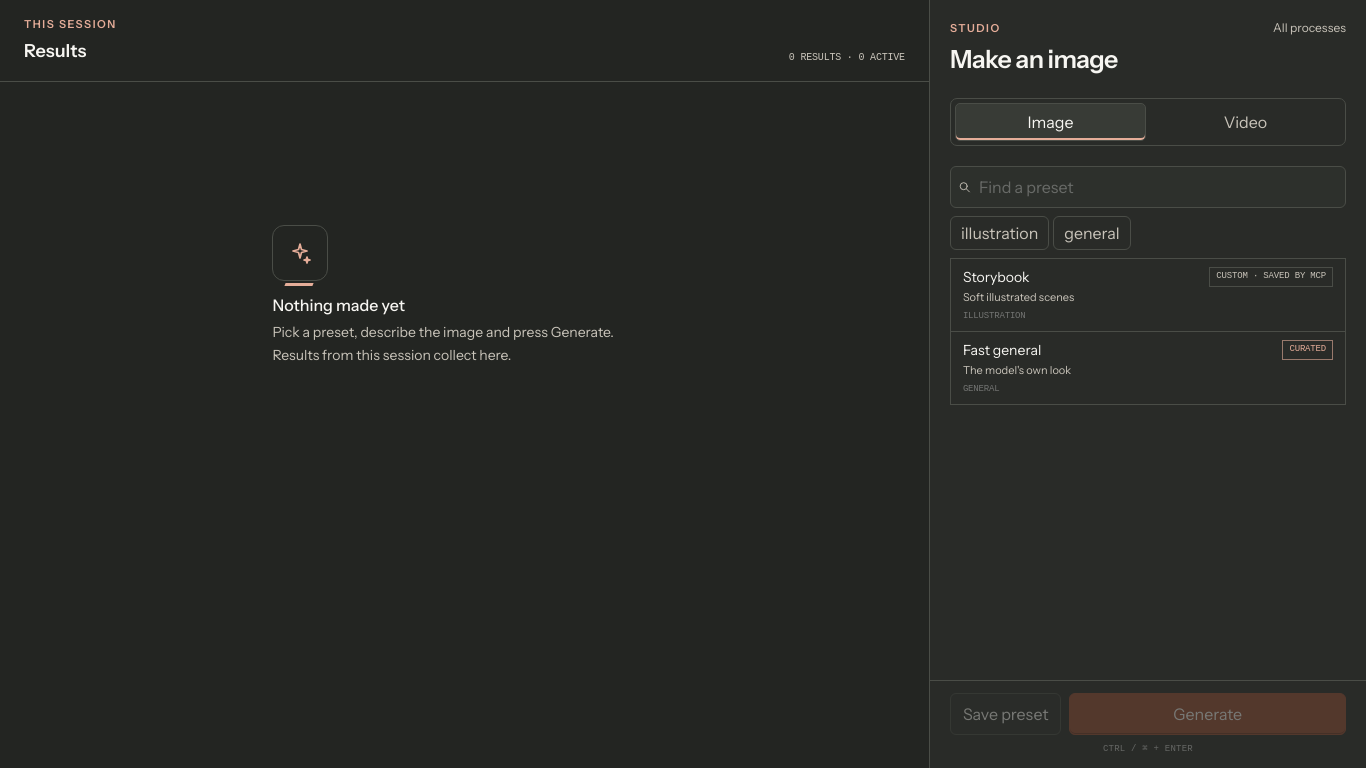
the Studio › switching presets keeps the prompt, says what did not carry, and can be undone
Click the option "Storybook" at (996, 277), box [951, 259, 1345, 332]
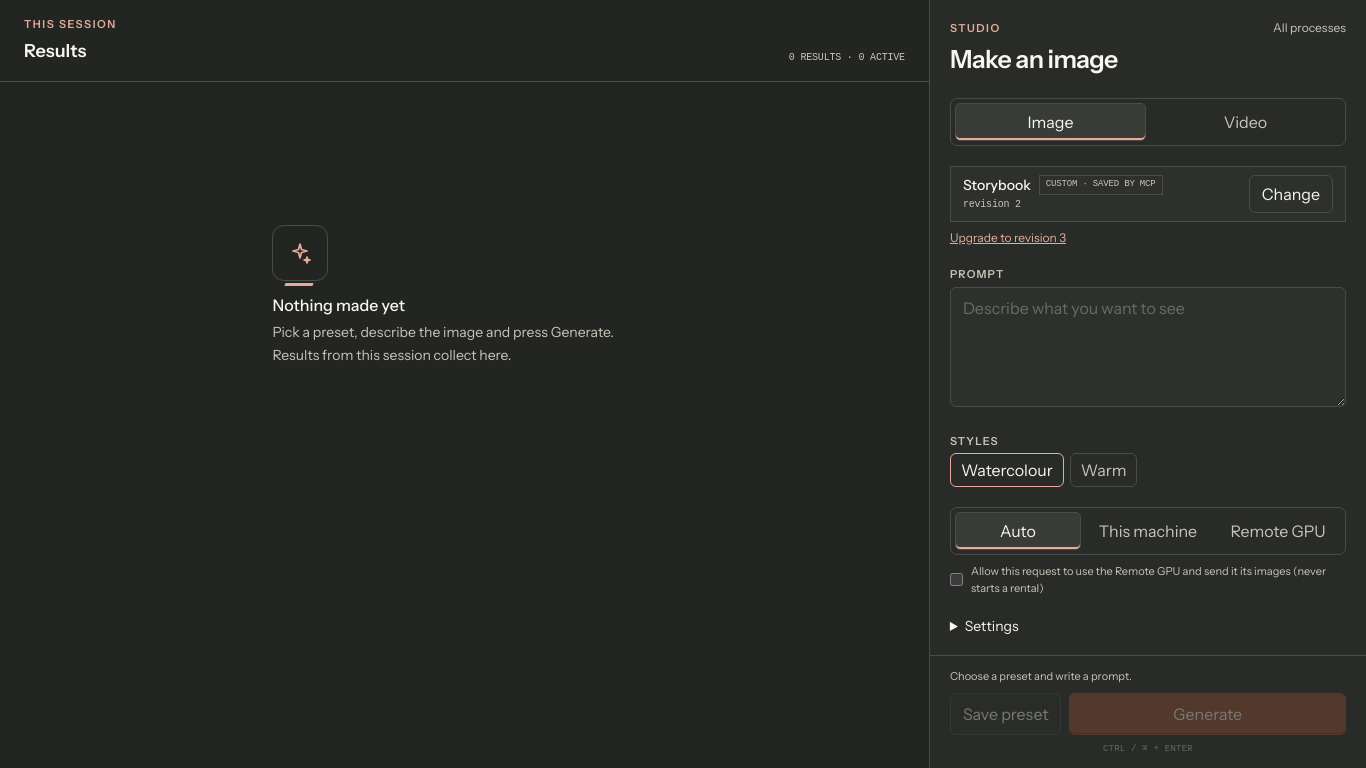
Type "a harbour" into the text box labelled "Prompt" at (1148, 346), box [950, 286, 1346, 406]
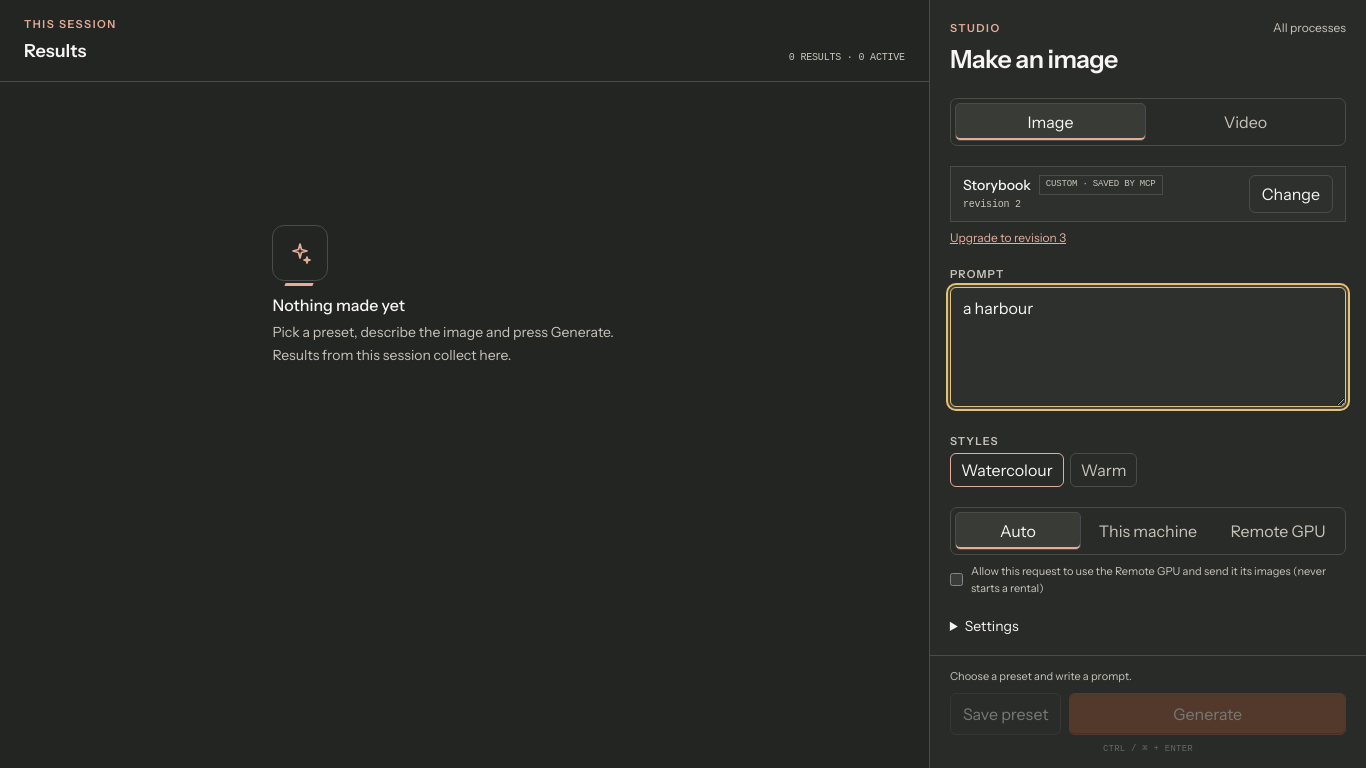
Click the button "Warm" at (1104, 470), box [1070, 453, 1138, 487]
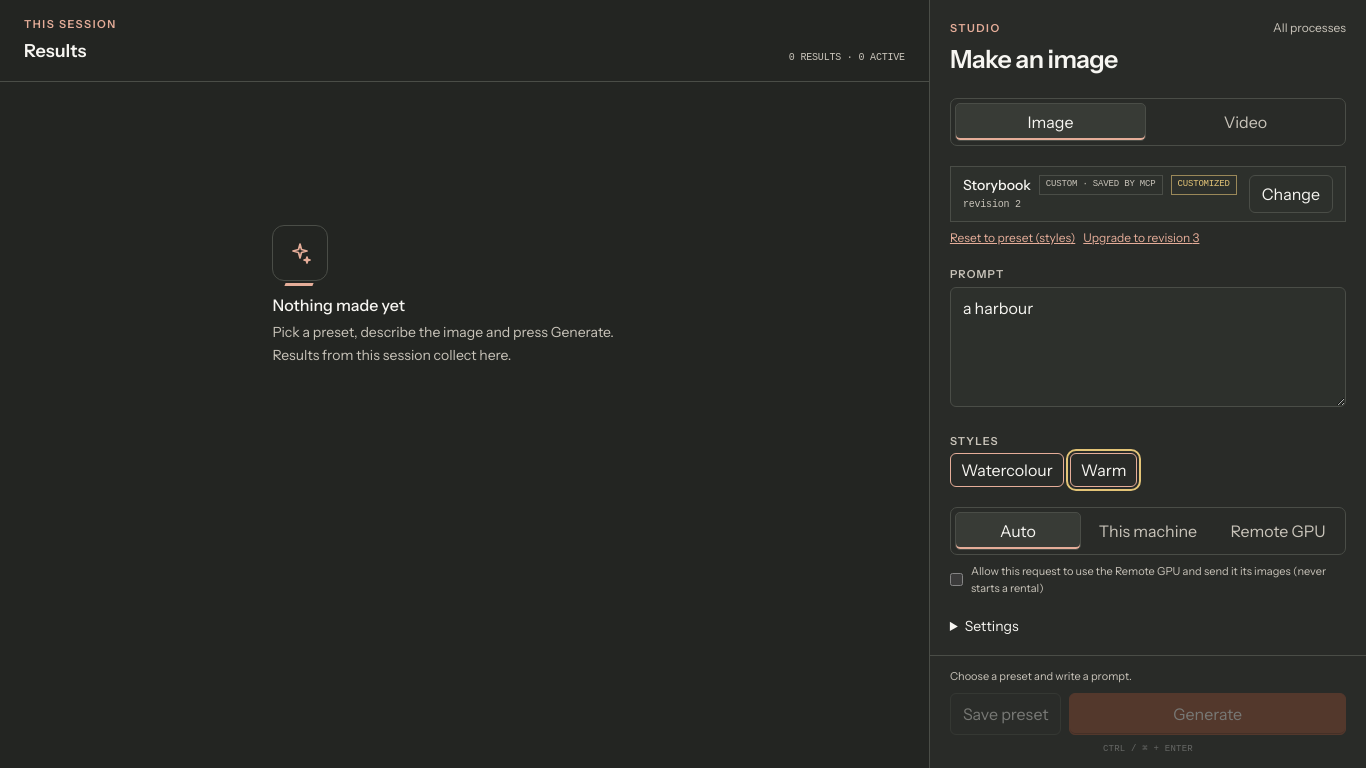
Click the button "Change" at (1291, 194), box [1249, 175, 1333, 213]
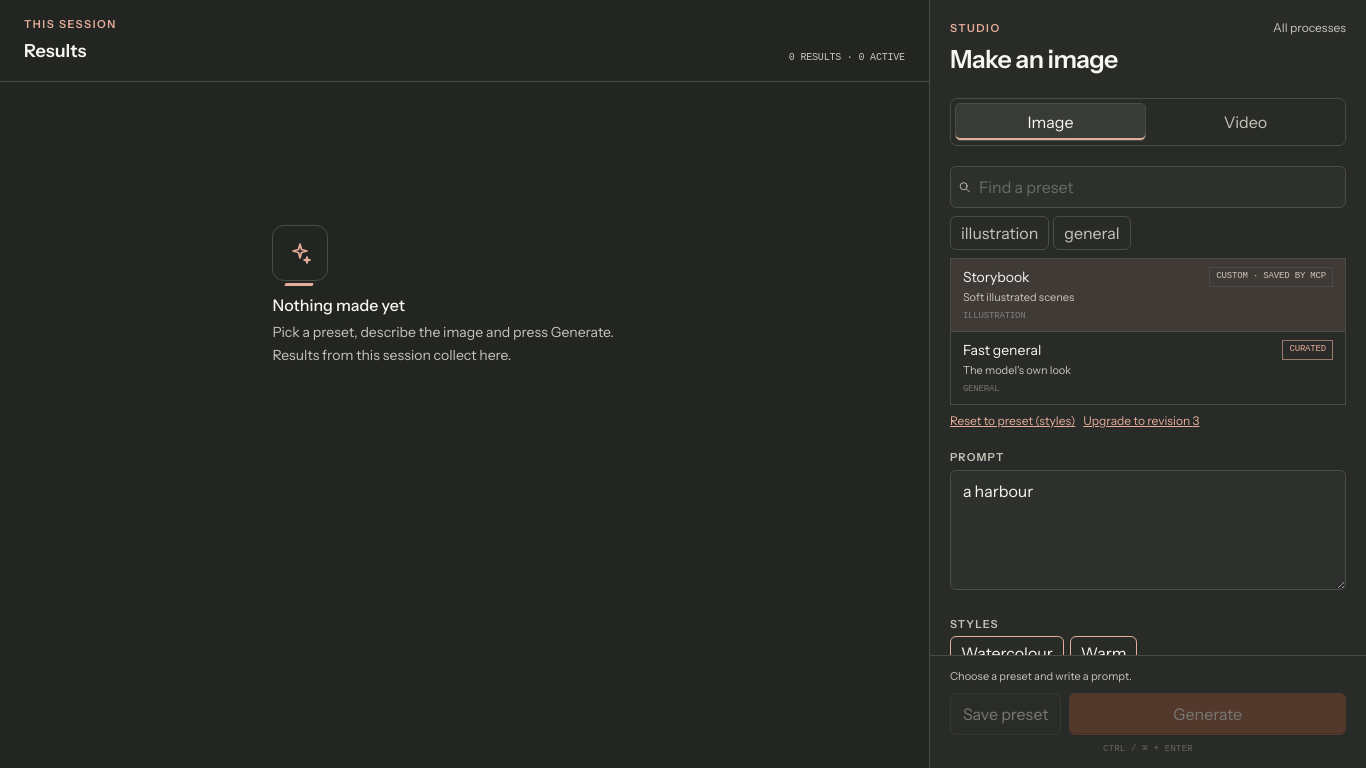
Click the option "Fast general Curated The model's own look general" at (1002, 350), box [951, 332, 1345, 404]
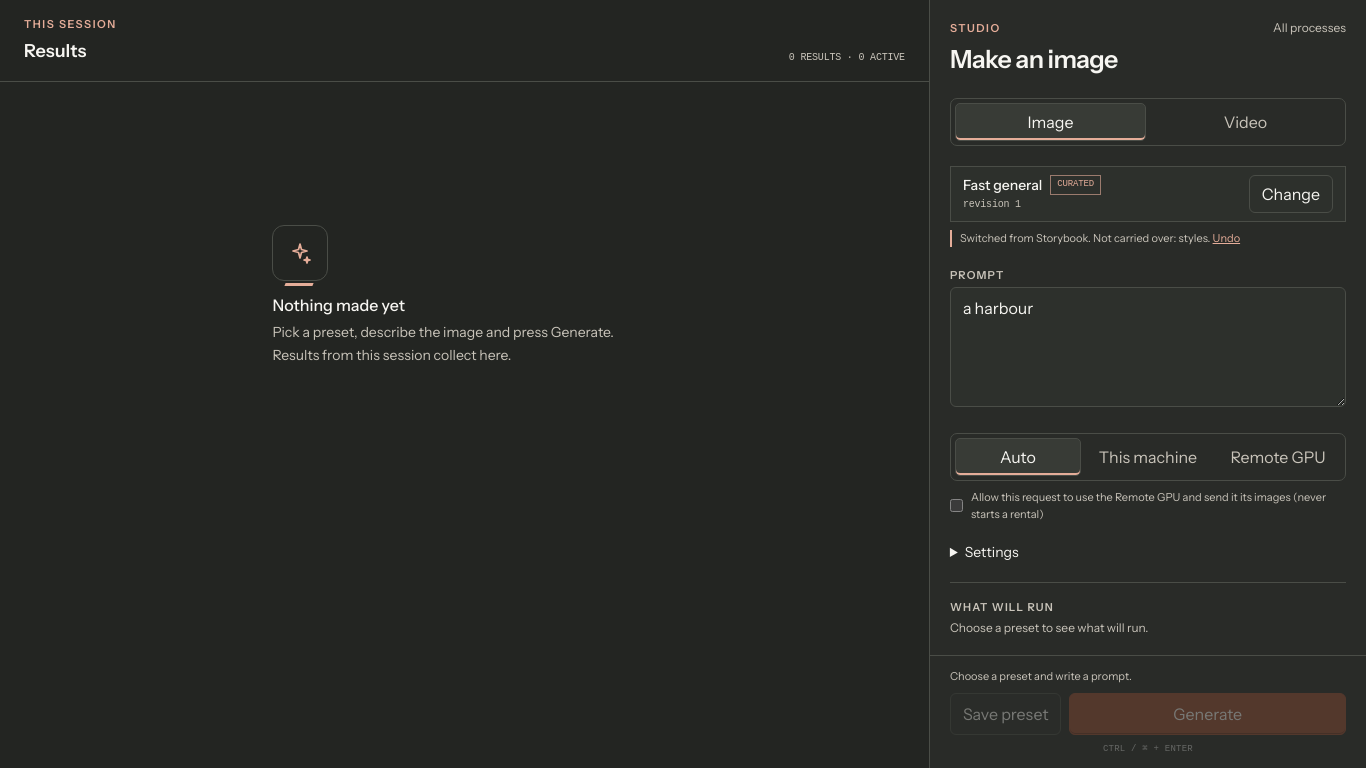
Expected: the element with test id "switch-summary" shows "Not carried over: styles", [1091, 231, 1210, 245]
Click the button "Undo" at (1226, 238), box [1213, 230, 1240, 246]
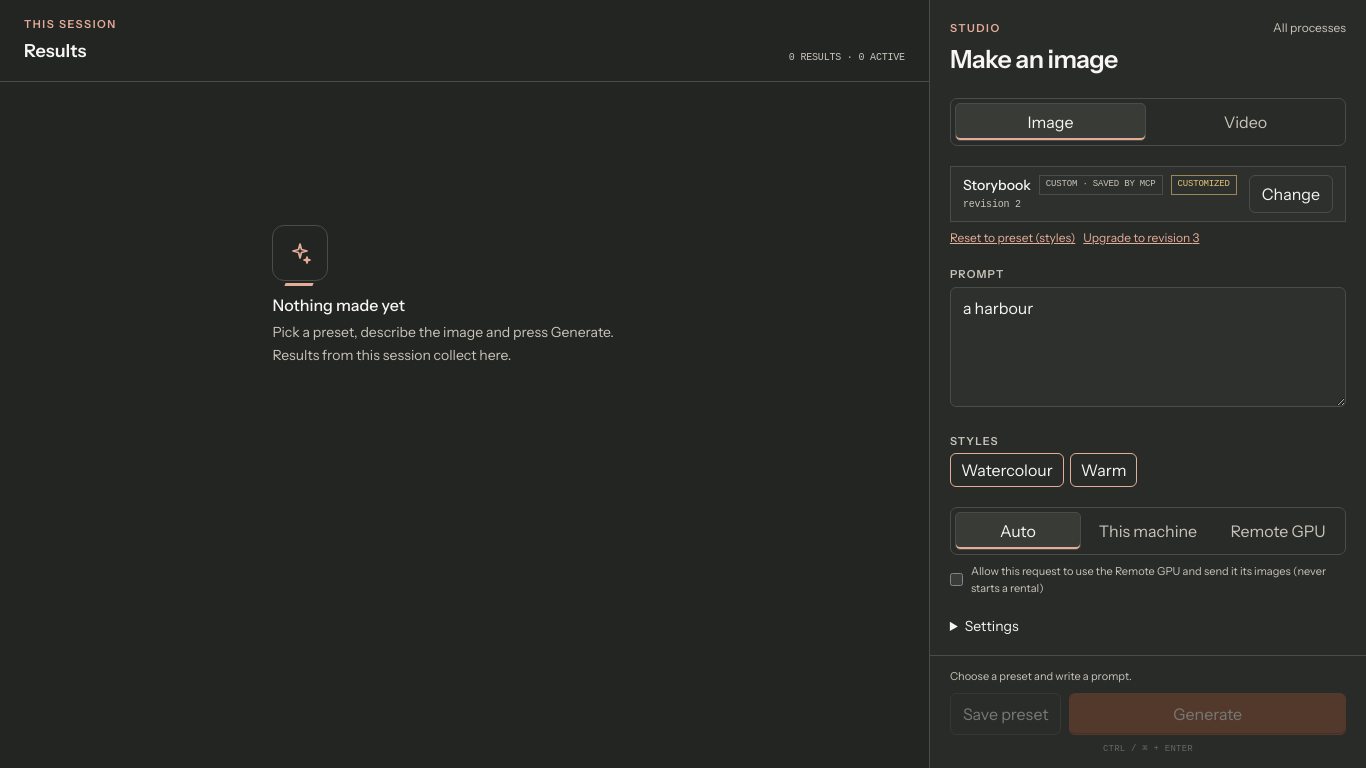
Expected: the text with test id "preset-name" reads "Storybook", [963, 176, 1031, 194]
Expected: the text "Customized" is shown, [1170, 175, 1237, 195]
